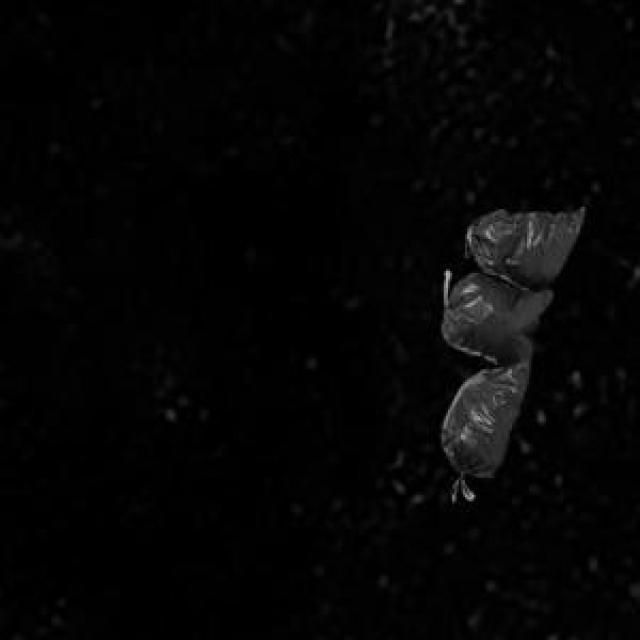miscellaneous trash: (437, 203, 580, 474)
